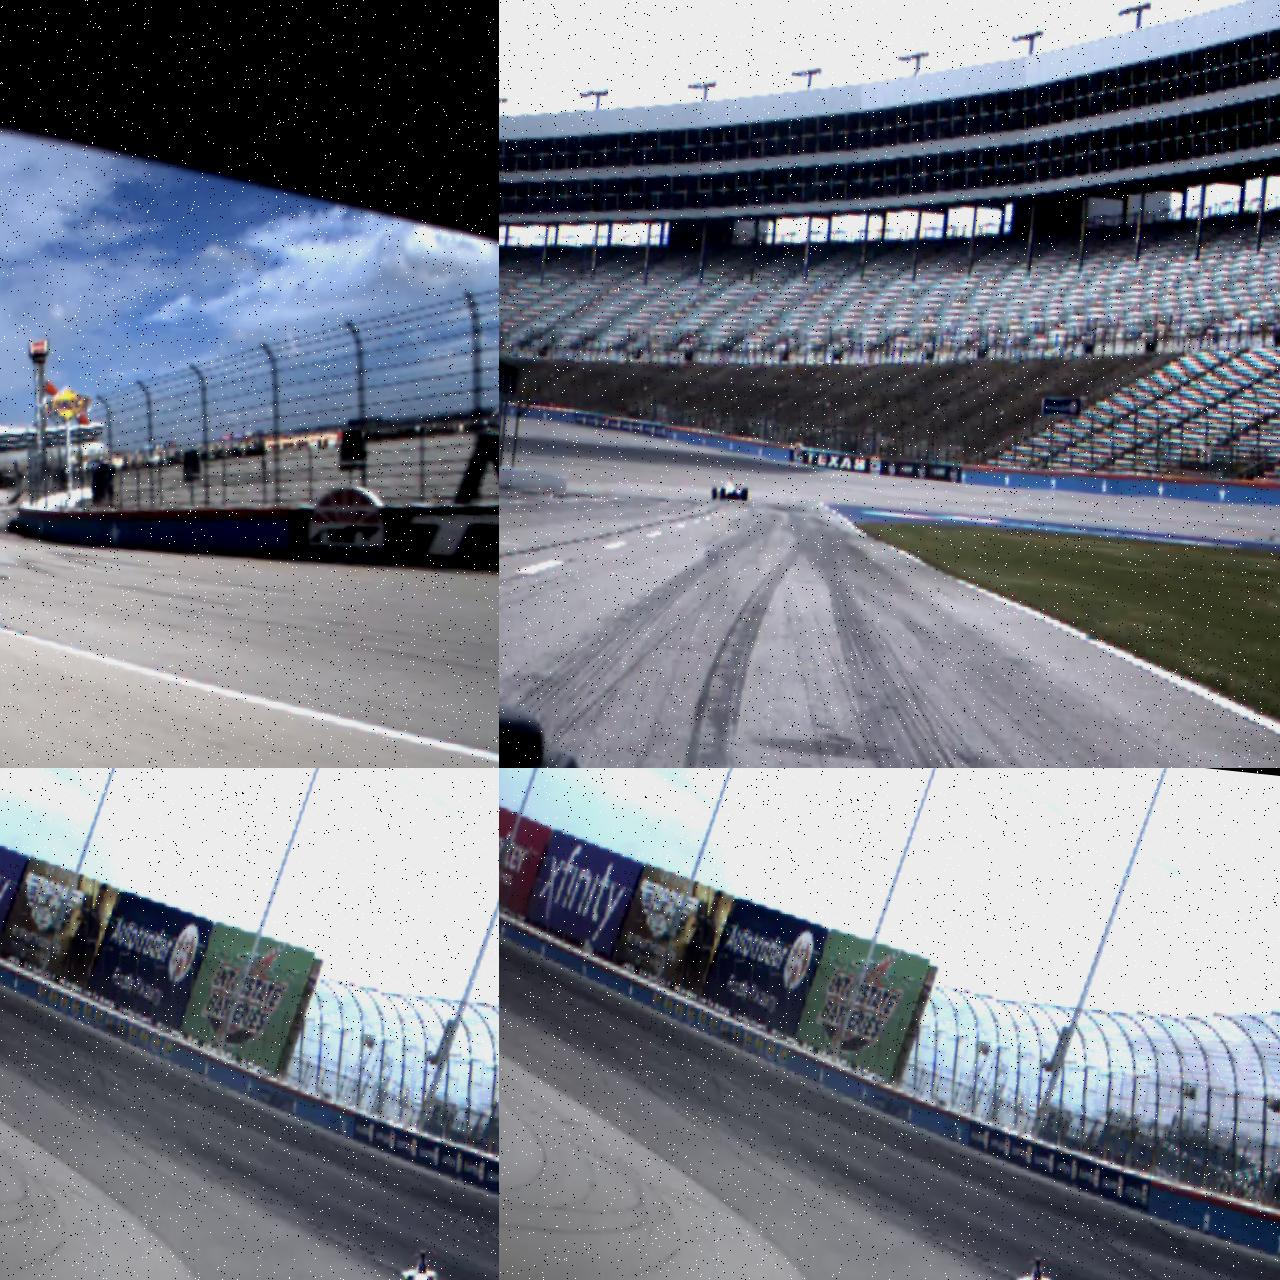AV: (353, 1242, 489, 1280), (968, 1250, 1104, 1280), (710, 475, 749, 504)
Wheel: (719, 486, 726, 501), (741, 488, 748, 502), (712, 488, 717, 501)
